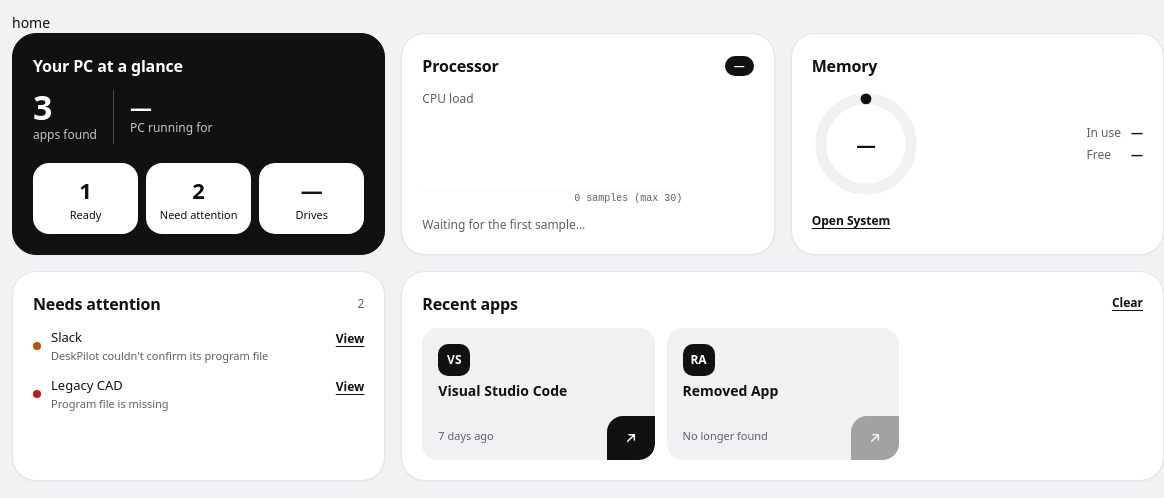
Test: Home view › opening from a Recent card records it locally and shows progress
Expected: the text "Removed App" is shown, [682,381,778,400]
Click the button named "Open Visual Studio Code": click(630, 438) [606,416,654,460]
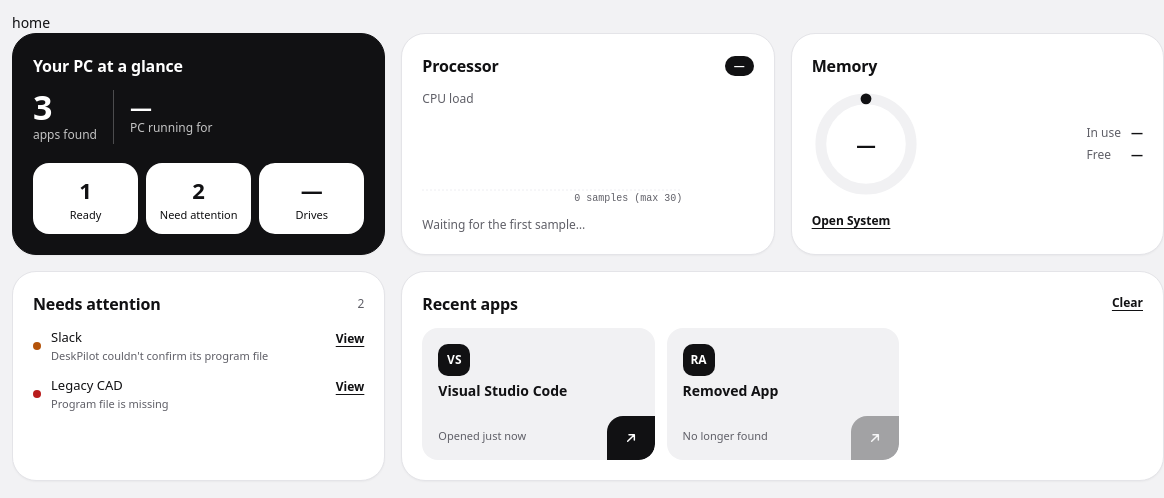
Expected: the text "Visual Studio Code" is shown, [438,381,567,400]
Now the text "Opened just now" is shown, box [438,428,526,442]
